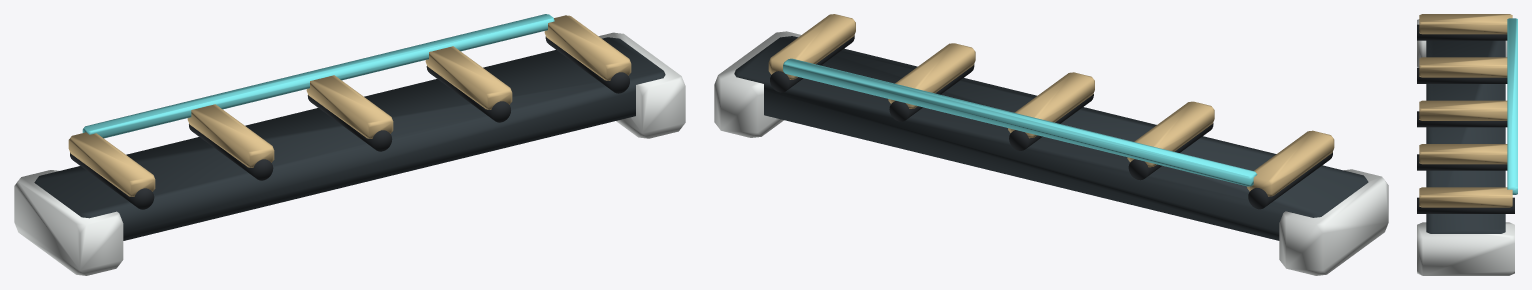
The model's file is room_l5_v4_ceiling_cable_tray.glb.
3 views of the same model, side by side, from view 1: azimuth 30°, elevation 25°; view 2: azimuth 150°, elevation 25°; view 3: azimuth 270°, elevation 25° (orthographic). The views are drawn at different scales.
Visible parts, largest first — view 1: perforated_tray_backbone, cyan_locator_strip, ceiling_mount_tab_-1.04, ceiling_mount_tab_1.04, brass_cable_clamp_-0.88, brass_cable_clamp_0.88, brass_cable_clamp_0.0, brass_cable_clamp_0.44, brass_cable_clamp_-0.44, parallel_service_cable_0.88, parallel_service_cable_-0.88, parallel_service_cable_-0.44 (+2 smaller); view 2: perforated_tray_backbone, cyan_locator_strip, ceiling_mount_tab_-1.04, ceiling_mount_tab_1.04, brass_cable_clamp_-0.88, brass_cable_clamp_0.88, brass_cable_clamp_-0.44, brass_cable_clamp_0.44, brass_cable_clamp_0.0, parallel_service_cable_-0.88, parallel_service_cable_0.88, parallel_service_cable_-0.44 (+2 smaller); view 3: perforated_tray_backbone, ceiling_mount_tab_1.04, brass_cable_clamp_0.88, cyan_locator_strip, brass_cable_clamp_-0.88, brass_cable_clamp_-0.44, brass_cable_clamp_0.0, brass_cable_clamp_0.44, parallel_service_cable_0.88, parallel_service_cable_0.0, parallel_service_cable_0.44, parallel_service_cable_-0.88 (+2 smaller).
Boxes of the visible parts, x1,y1,x2,y2 form: perforated_tray_backbone: (34,37,665,240); cyan_locator_strip: (82,14,554,138); ceiling_mount_tab_-1.04: (14,170,123,275); ceiling_mount_tab_1.04: (599,32,685,138); brass_cable_clamp_-0.88: (68,132,155,196); brass_cable_clamp_0.88: (544,15,631,80); brass_cable_clamp_0.0: (306,75,393,138); brass_cable_clamp_0.44: (425,46,512,109); brass_cable_clamp_-0.44: (187,104,274,167); parallel_service_cable_0.88: (545,36,629,93); parallel_service_cable_-0.88: (70,152,154,209); parallel_service_cable_-0.44: (189,124,273,180); perforated_tray_backbone: (734,36,1368,240); cyan_locator_strip: (783,58,1257,186); ceiling_mount_tab_-1.04: (1279,169,1388,275); ceiling_mount_tab_1.04: (714,31,801,137); brass_cable_clamp_-0.88: (1247,130,1334,196); brass_cable_clamp_0.88: (768,14,855,79); brass_cable_clamp_-0.44: (1127,101,1214,167); brass_cable_clamp_0.44: (888,43,975,108); brass_cable_clamp_0.0: (1008,72,1094,138); parallel_service_cable_-0.88: (1248,152,1332,209); parallel_service_cable_0.88: (770,35,854,92); parallel_service_cable_-0.44: (1128,123,1213,180); perforated_tray_backbone: (1426,40,1505,233); ceiling_mount_tab_1.04: (1417,222,1514,275); brass_cable_clamp_0.88: (1419,187,1512,207); cyan_locator_strip: (1507,18,1517,194); brass_cable_clamp_-0.88: (1419,14,1512,34); brass_cable_clamp_-0.44: (1419,57,1507,77); brass_cable_clamp_0.0: (1419,100,1507,120); brass_cable_clamp_0.44: (1419,144,1507,164); parallel_service_cable_0.88: (1417,197,1514,213); parallel_service_cable_0.0: (1417,111,1507,127); parallel_service_cable_0.44: (1417,154,1507,170); parallel_service_cable_-0.88: (1417,24,1507,40).
Size of the model in its own units: 2.24 by 0.2975 by 0.4325.
